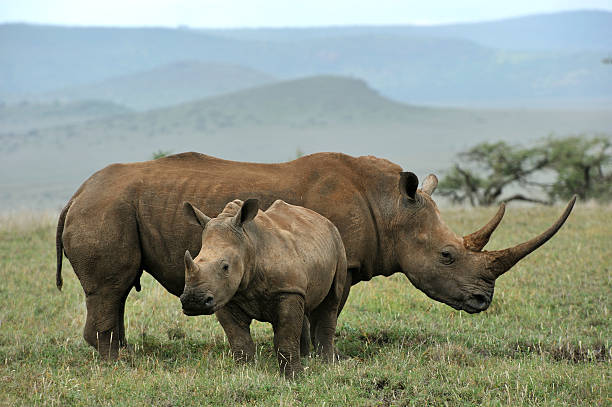rhino: (386, 159, 589, 325)
